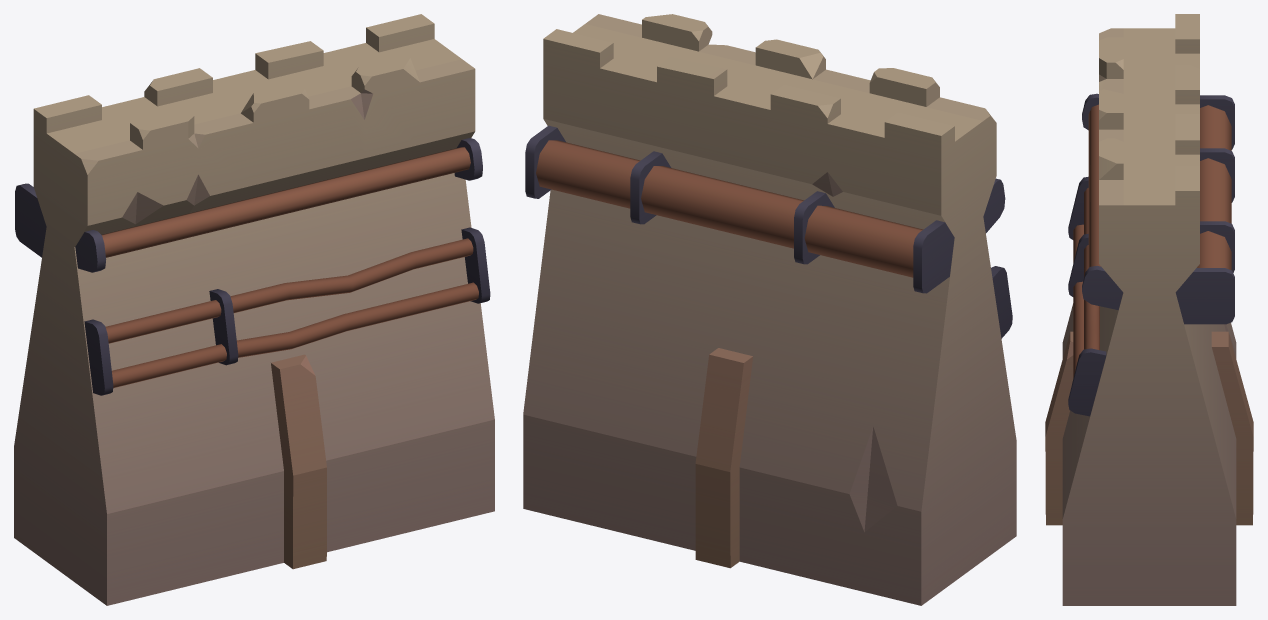
The model's file is WallSection_Medium_03.fbx.
3 views of the same model, side by side, from view 1: azimuth 30°, elevation 25°; view 2: azimuth 150°, elevation 25°; view 3: azimuth 270°, elevation 25° (orthographic). The views are drawn at different scales.
Visible parts, largest first — view 1: WallSection_Medium_03; view 2: WallSection_Medium_03; view 3: WallSection_Medium_03.
Part boxes in pixels (x1,y1,x2,y2): WallSection_Medium_03: [14, 14, 494, 605]; WallSection_Medium_03: [523, 14, 1016, 605]; WallSection_Medium_03: [1045, 14, 1253, 605].
Bounding box in the file's own units: 670 × 735 × 333.
